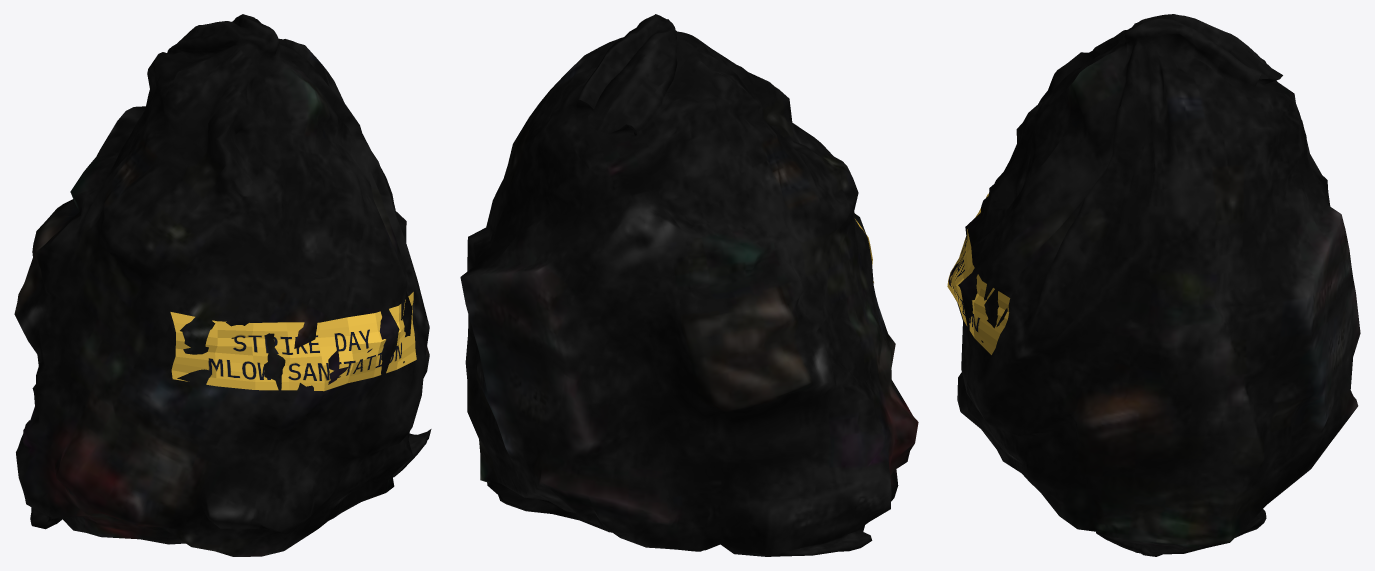
Rendered from nyb_oot_trashbag.glb.
3 renders of one model, left to right at view 1: azimuth 30°, elevation 25°; view 2: azimuth 150°, elevation 25°; view 3: azimuth 270°, elevation 25°, orthographic. The views are drawn at different scales.
Visible parts, largest first — view 1: trashbag, stk_lbl_a0de27bf42.png; view 2: trashbag; view 3: trashbag, stk_lbl_a0de27bf42.png.
Part boxes in pixels (<box>): trashbag: <box>14,14,431,556</box>; stk_lbl_a0de27bf42.png: <box>170,292,416,391</box>; trashbag: <box>460,14,918,556</box>; trashbag: <box>948,14,1360,556</box>; stk_lbl_a0de27bf42.png: <box>947,193,1010,354</box>.
Size of the model in its own units: 0.5281 by 0.575 by 0.4642.
2 materials, 2 textured.
